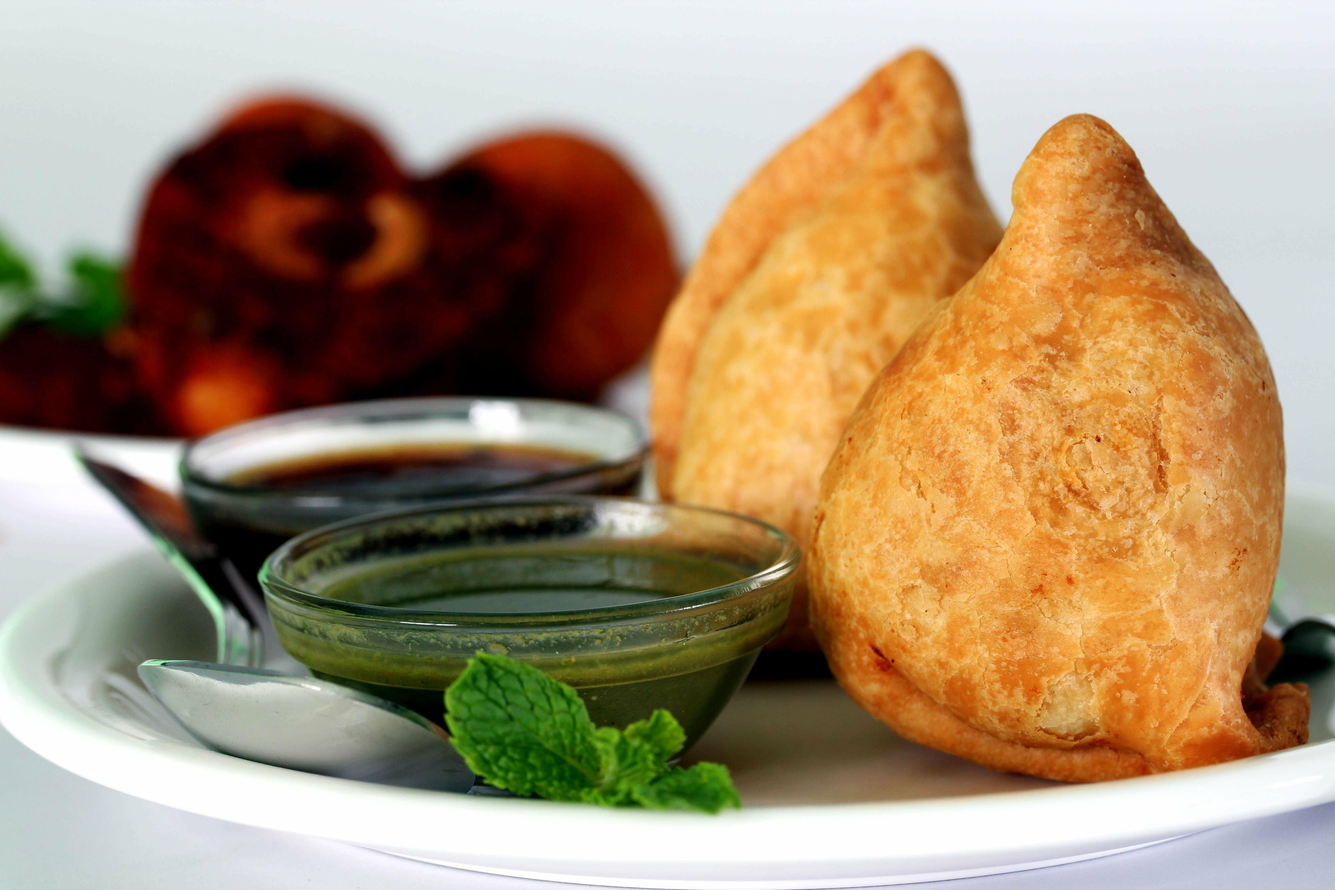Samosa: (810, 116, 1319, 789), (650, 48, 1006, 527)
